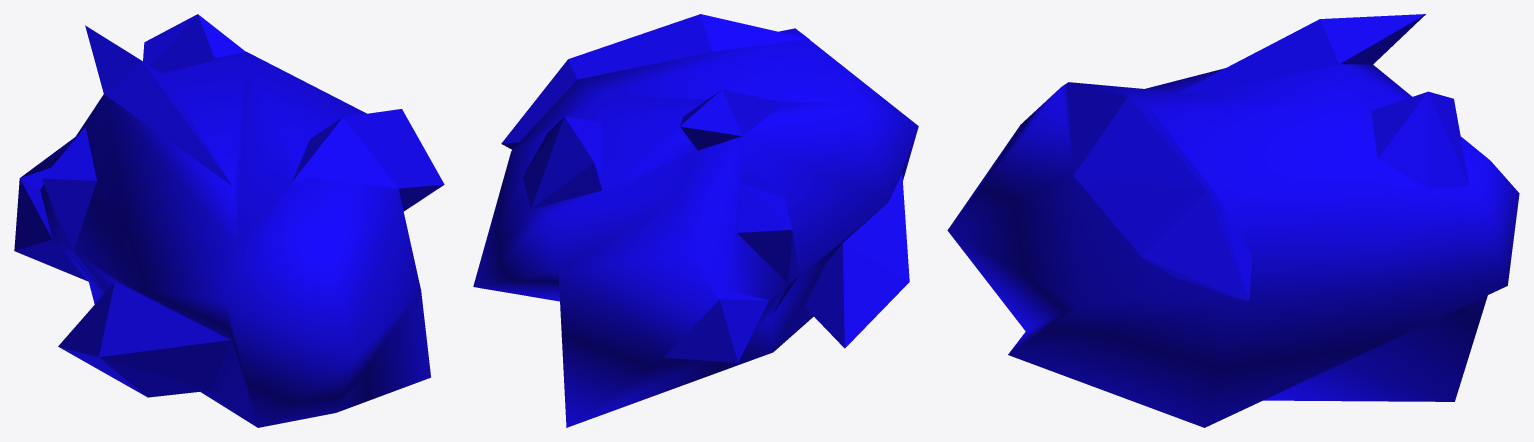
The model's file is piedraEnemigo.fbx.
3 views of the same model, side by side, from view 1: azimuth 30°, elevation 25°; view 2: azimuth 150°, elevation 25°; view 3: azimuth 270°, elevation 25° (orthographic). The views are drawn at different scales.
Visible parts, largest first — view 1: Box003; view 2: Box003; view 3: Box003.
Boxes of the visible parts, x1=… form: Box003: x1=14, y1=14, x2=444, y2=427; Box003: x1=473, y1=14, x2=918, y2=427; Box003: x1=947, y1=14, x2=1519, y2=427.
Bounding box in the file's own units: 0.0874 × 0.1101 × 0.0743.
